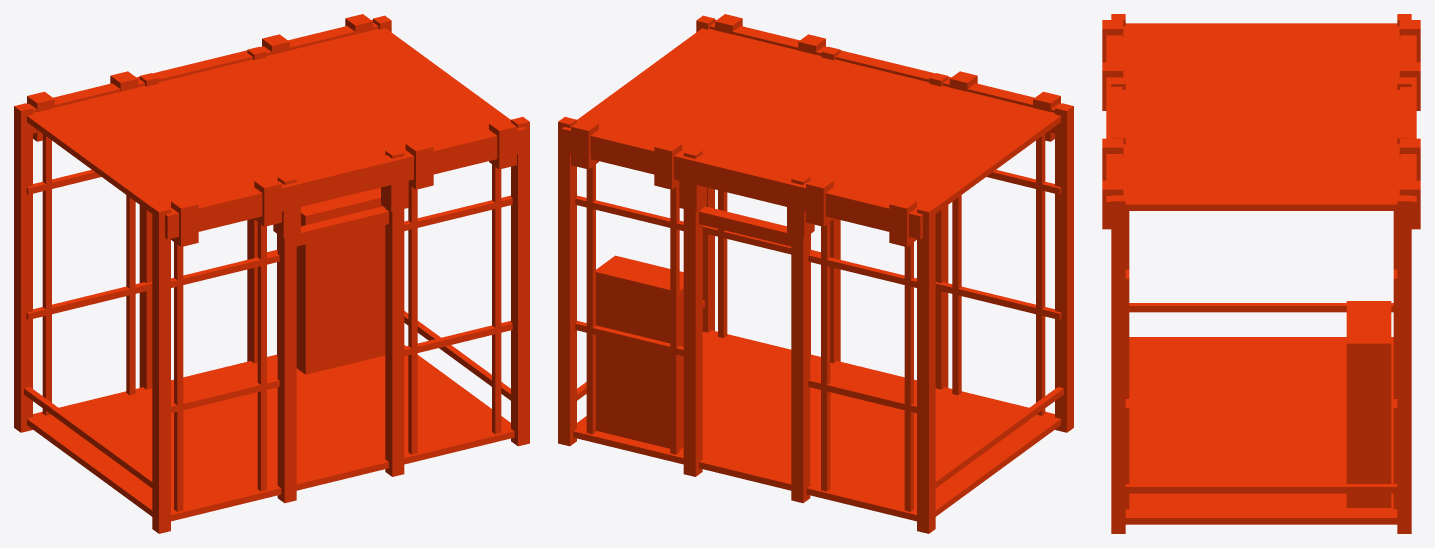
Rendered from Rift (1).fbx.
3 renders of one model, left to right at view 1: azimuth 30°, elevation 25°; view 2: azimuth 150°, elevation 25°; view 3: azimuth 270°, elevation 25°, orthographic. The views are drawn at different scales.
Parts seen in each view (by area): view 1: Cube; view 2: Cube; view 3: Cube.
Boxes of the visible parts, bbox=[...] form: Cube: bbox=[14, 14, 529, 533]; Cube: bbox=[558, 14, 1073, 533]; Cube: bbox=[1102, 14, 1420, 533].
Bounding box in the file's own units: 310 × 259 × 223.
